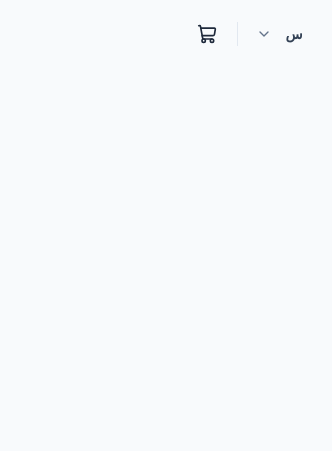
Test: the header account entry › «خروج» logs out through the API, goes home and gives the header back to the guest
What coordinates should you click on to do the following:
click the button named "حساب کاربری: سارا احمدی"
I would click on:
 (283, 34)
Its box is [246, 12, 320, 56].
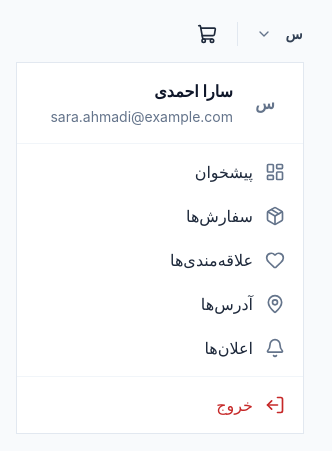
What coordinates should you click on to do the following:
click the menu item "خروج"
I would click on:
 (251, 405)
Its box is [216, 395, 285, 415].
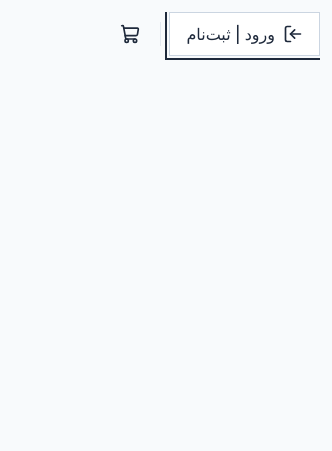
Expected: the menu is gone
